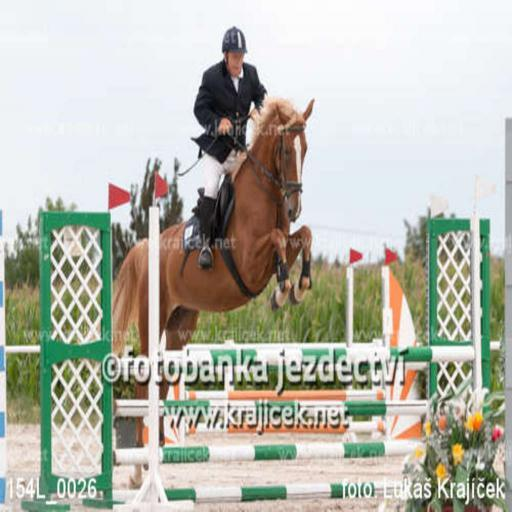Horse: (108, 90, 316, 490)
